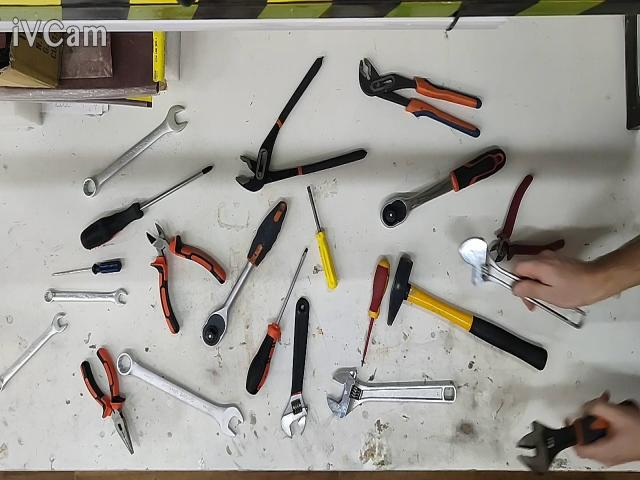Adjustable spanner: (459, 238, 587, 330), (327, 369, 456, 418), (517, 415, 608, 472), (281, 297, 310, 439)
Cutting pliers: (146, 223, 226, 335), (489, 175, 565, 262)
Gas wrench: (235, 57, 368, 192), (359, 58, 481, 138)
Hammer: (387, 257, 548, 370)
Hand: (512, 236, 640, 307), (575, 393, 640, 465)
Needle-nose pliers: (80, 348, 134, 455)
Ratchet: (202, 200, 288, 346), (381, 148, 506, 228)
Screwdriver: (80, 166, 212, 250), (245, 247, 309, 395), (361, 257, 390, 370), (307, 186, 338, 290), (52, 261, 121, 277)
Wrench: (116, 352, 243, 437), (82, 105, 188, 197), (0, 312, 68, 392), (45, 288, 128, 307)
